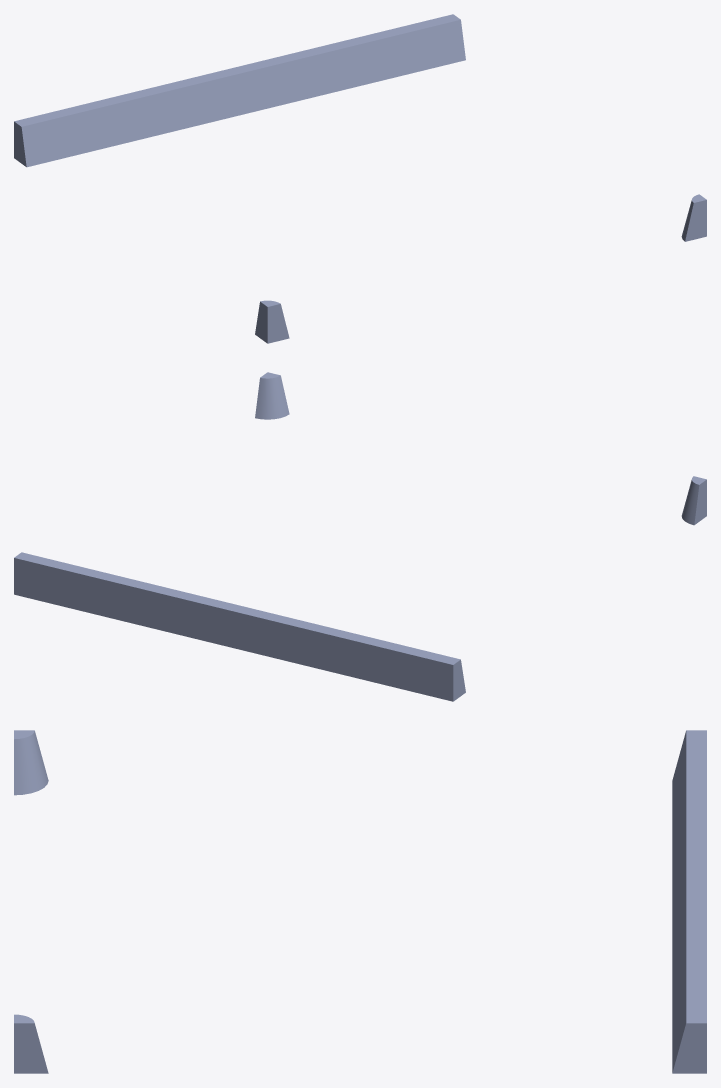
File: road-intersection-barrier.glb
The picture shows the model from 3 angles, top to bottom: view 1: azimuth 30°, elevation 25°; view 2: azimuth 150°, elevation 25°; view 3: azimuth 270°, elevation 25°; orthographic projection. The views are drawn at different scales.
Visible parts, largest first — view 1: road-intersection-barrier; view 2: road-intersection-barrier; view 3: road-intersection-barrier.
Part boxes in pixels (x1,y1,x2,y2): road-intersection-barrier: [14, 14, 706, 343]; road-intersection-barrier: [14, 372, 706, 701]; road-intersection-barrier: [14, 730, 706, 1073].
Bounding box in the file's own units: 1 × 0.08 × 1.
Materials: 1 (1 with a texture image).
